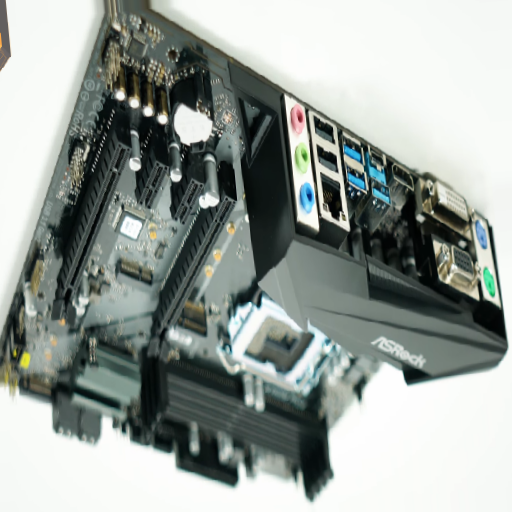CPU: (228, 291, 336, 398)
GPU: (51, 131, 132, 327), (148, 184, 236, 364)
MOTHERBOARD: (5, 2, 482, 482)
RAM: (140, 349, 334, 501)
SSD: (114, 260, 155, 291)
